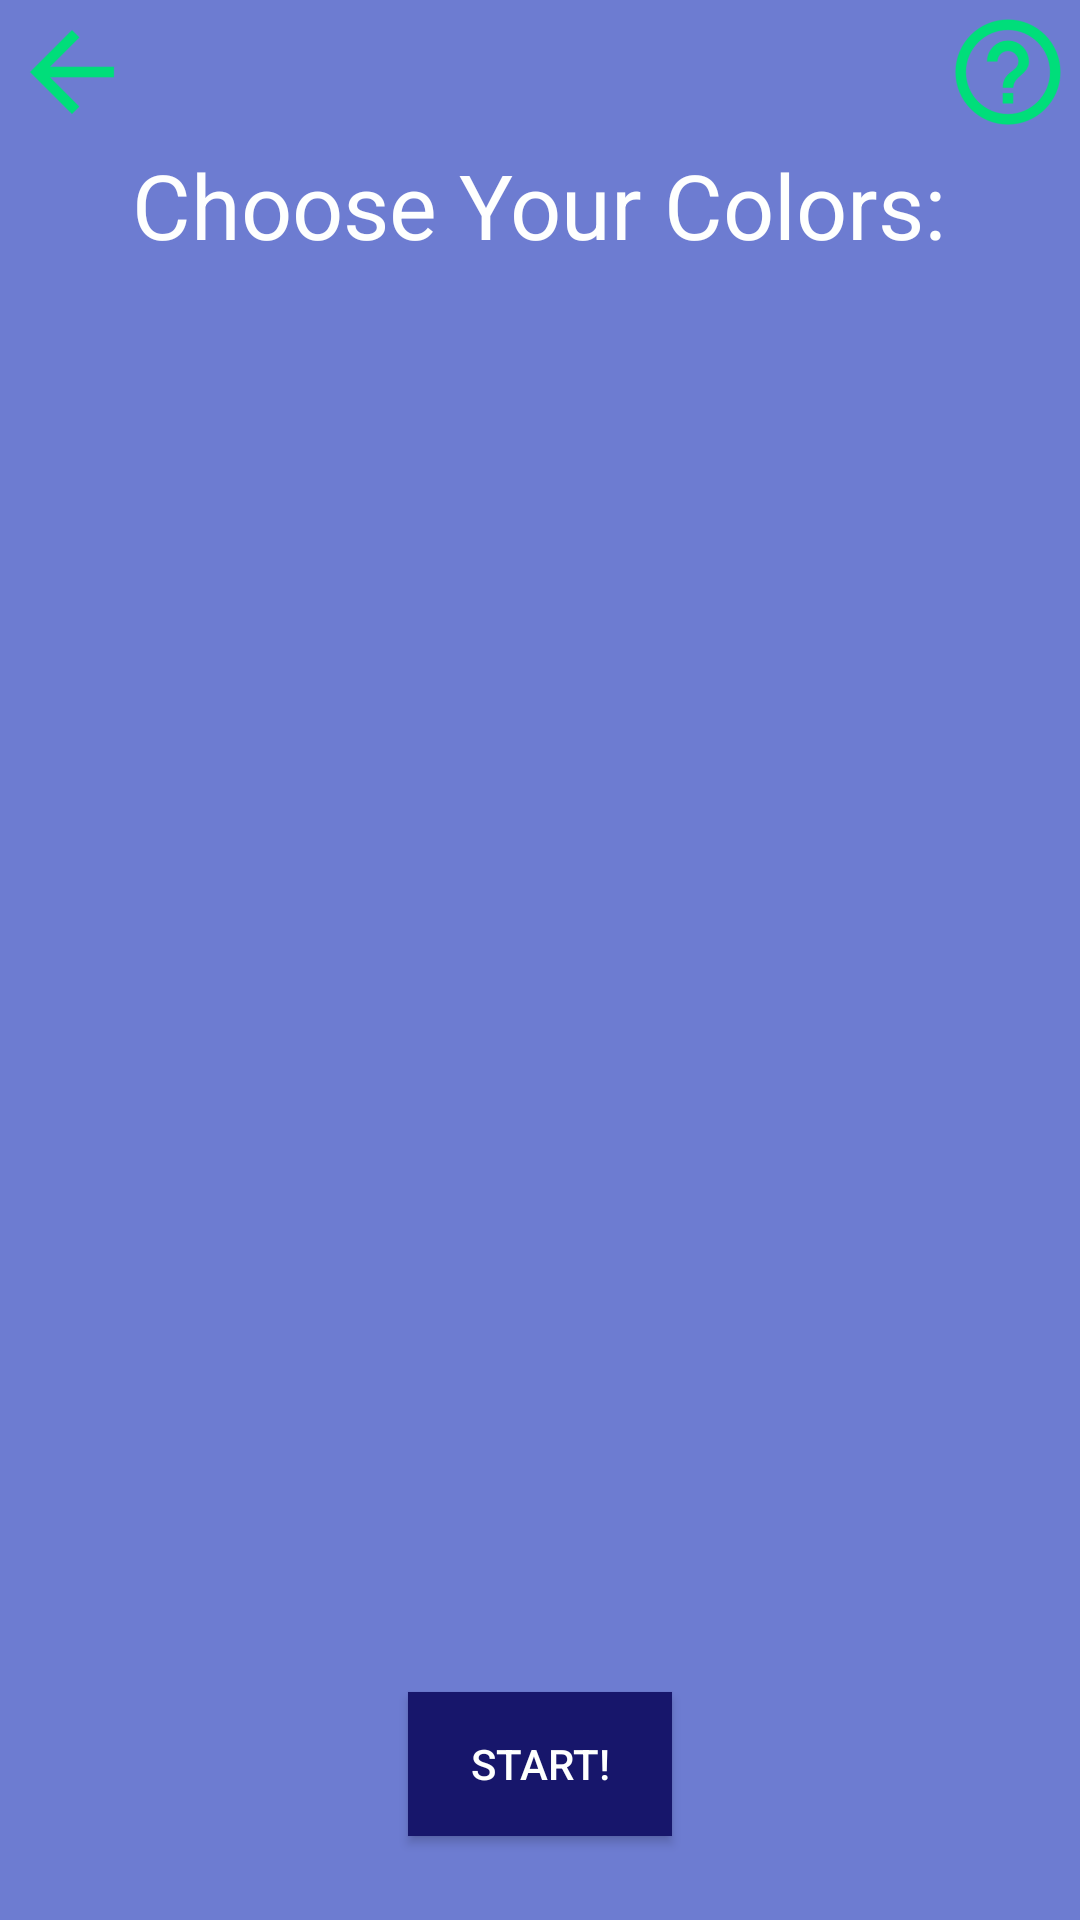

Named icons in this screenshot (1080 × 1920) and their centers, point (x, y):
Back Button: point (72, 72)
Help Button: point (1008, 72)
